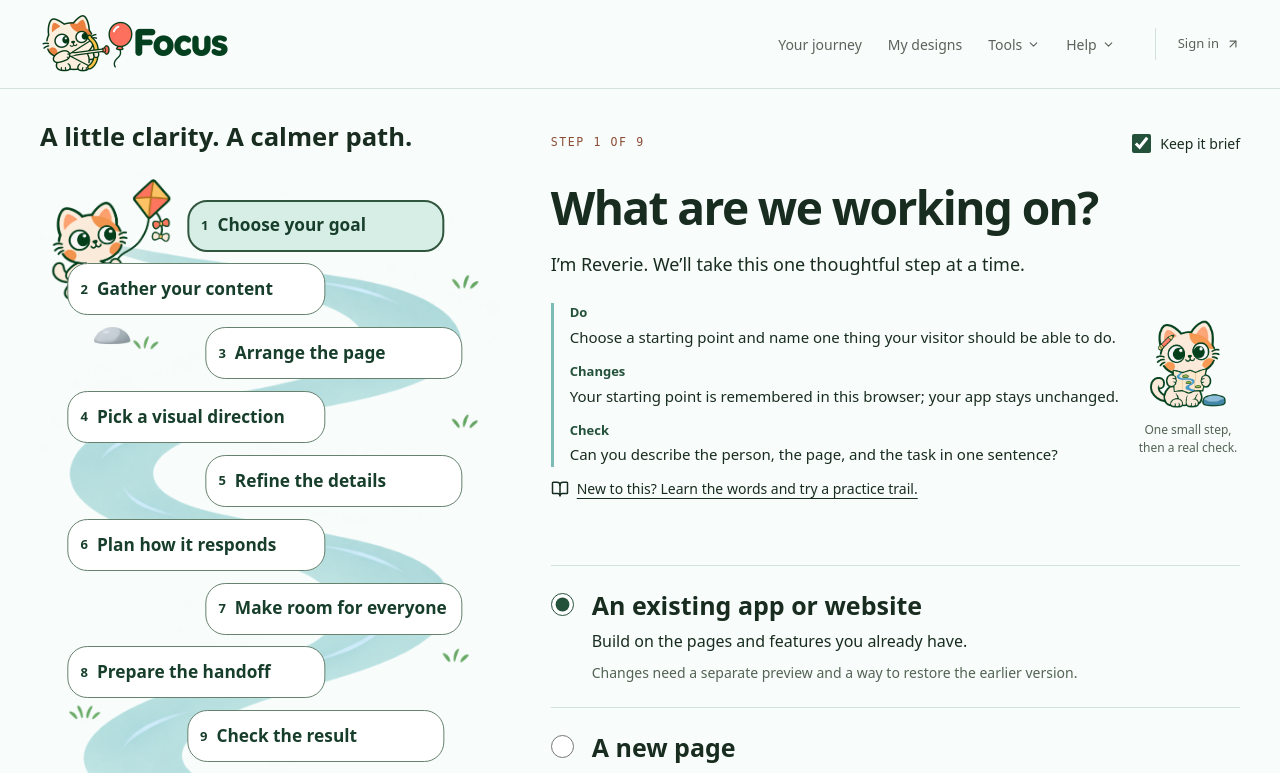
it: Garden home › preserves newer lesson and goal choices when an older tab moves to another stop
What coordinates should you click on to do the following:
click the button "5 Refine the details"
I would click on:
 (334, 481)
Its box is [205,455,463,507].
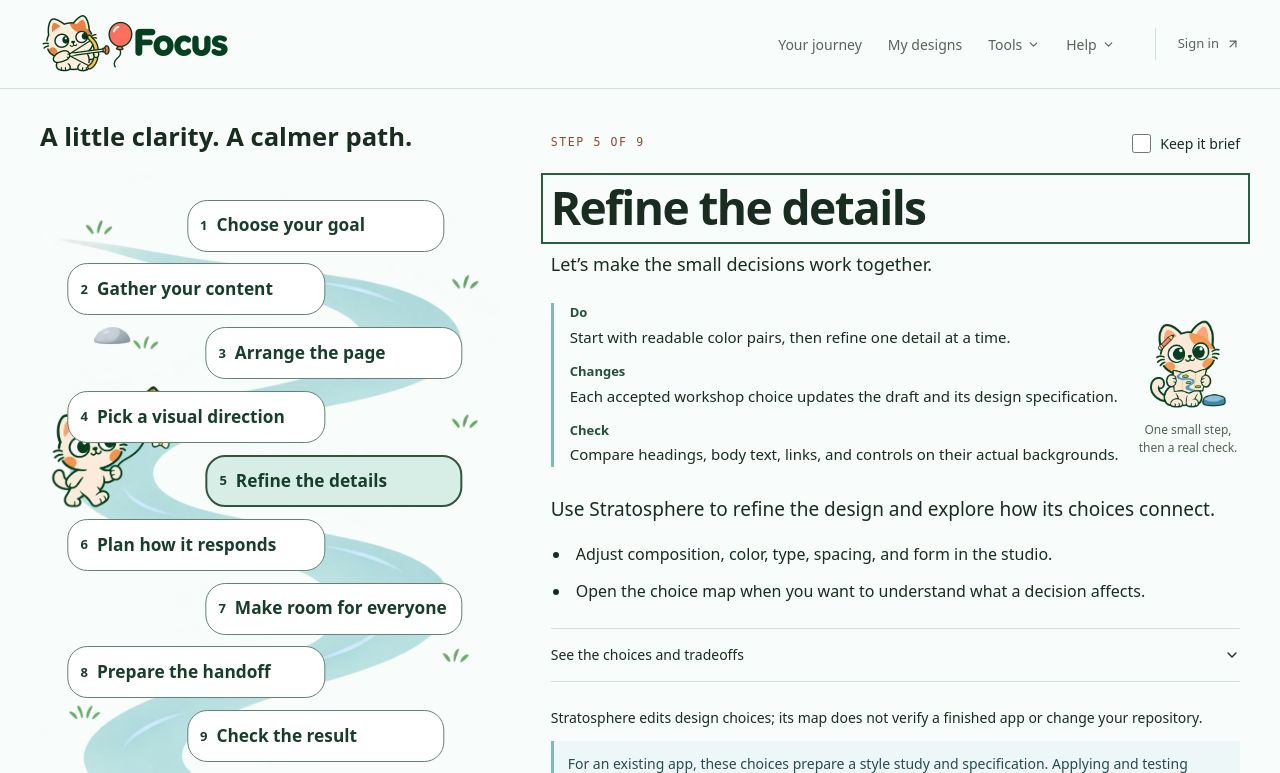
Check: the checkbox labelled "Keep it brief" is not checked, box [1132,134,1151,152]
